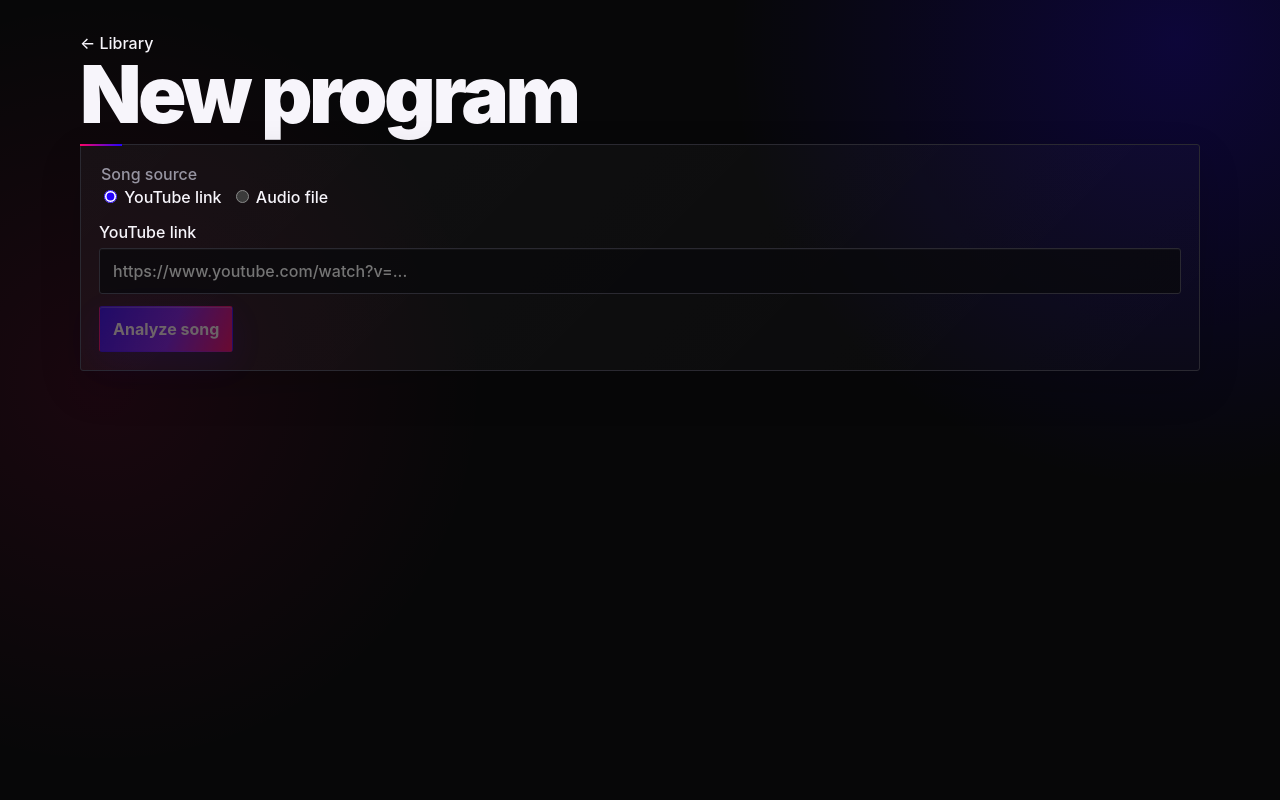
Test: App › import a YouTube link, wait for the analysis, and land in the editor
Type "https://youtu.be/dQw4w9WgXcQ" into the field labelled "YouTube link" at (640, 271), box [99,248,1181,294]
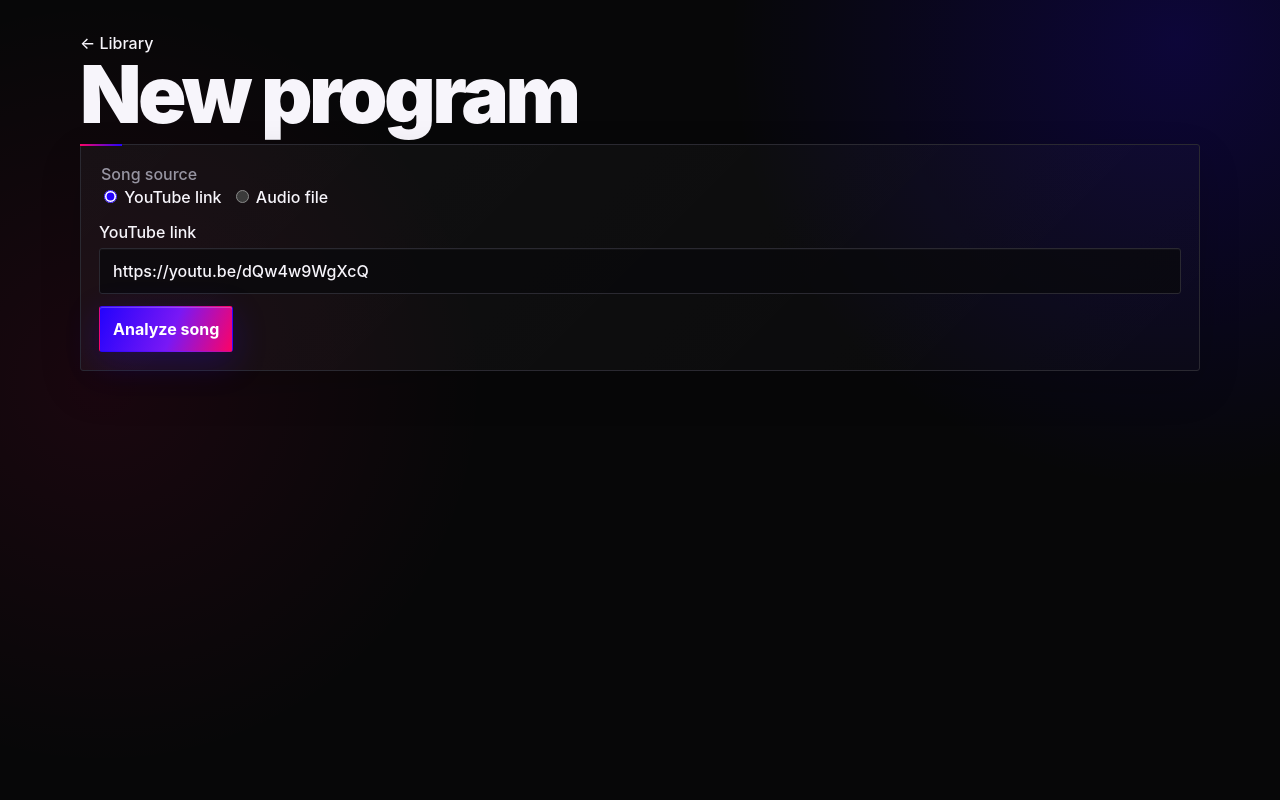
Click the button "Analyze song" at (166, 329), box [99,306,233,352]
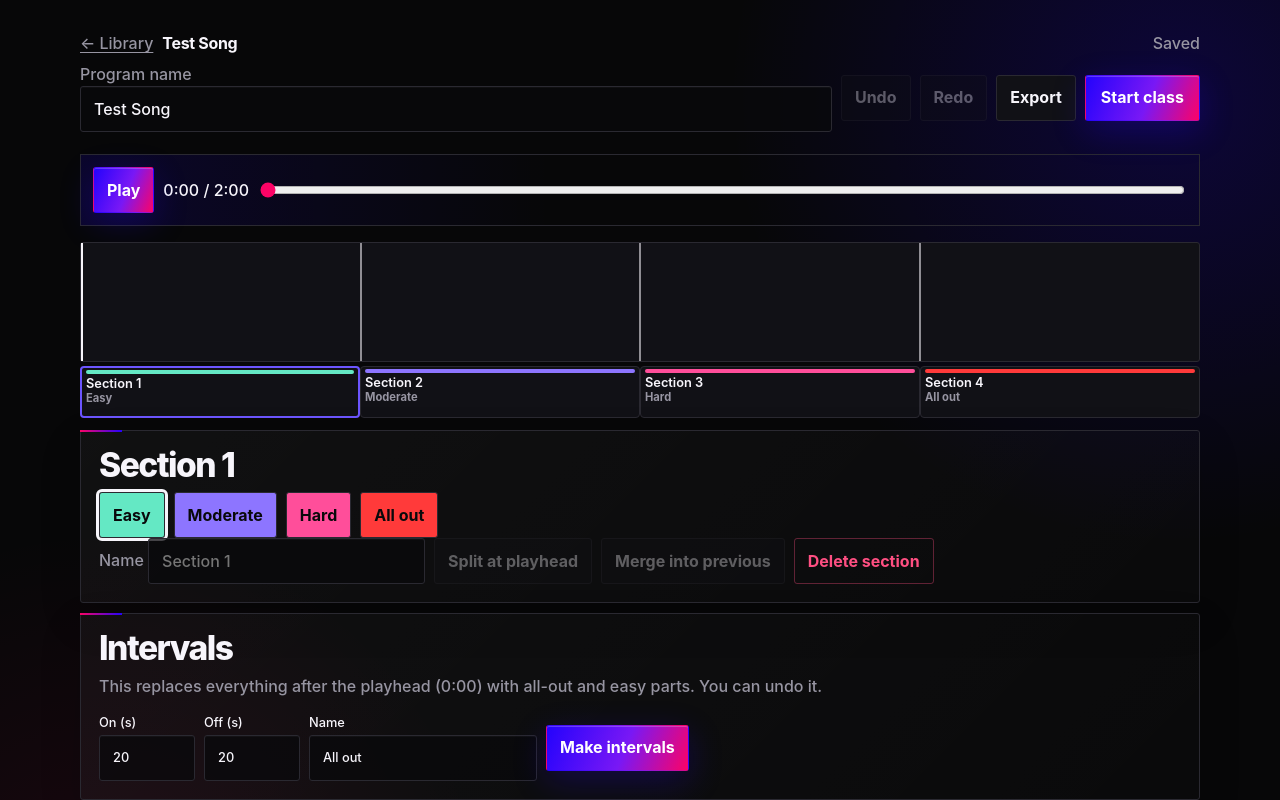
Now the text "Test Song" is shown, box [162,33,237,53]
